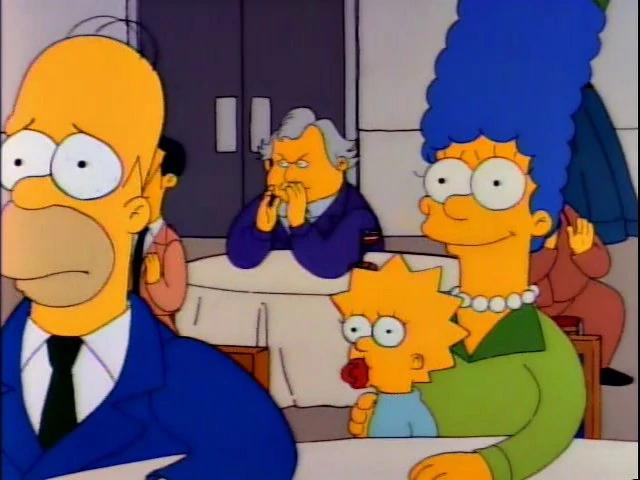Homer: (1, 32, 312, 480)
Maggie: (322, 262, 463, 442)
Marge: (414, 1, 606, 480)
